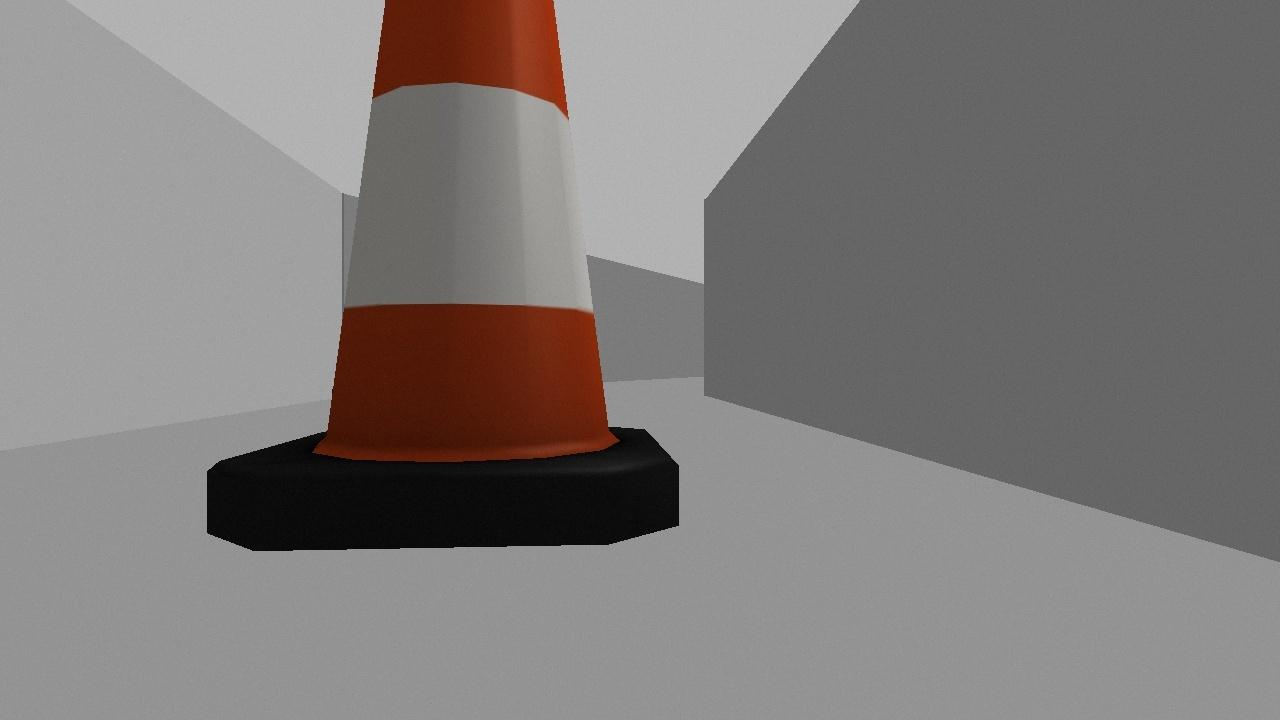cone_barrel: (169, 0, 700, 569)
